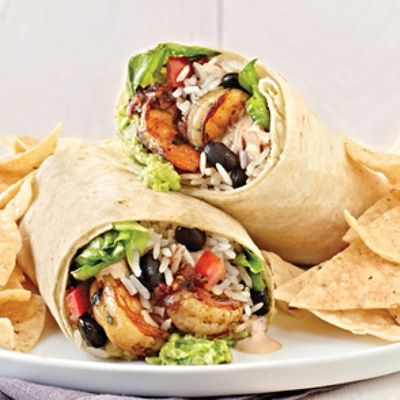curry: (149, 333, 234, 367)
soup: (13, 139, 278, 375)
